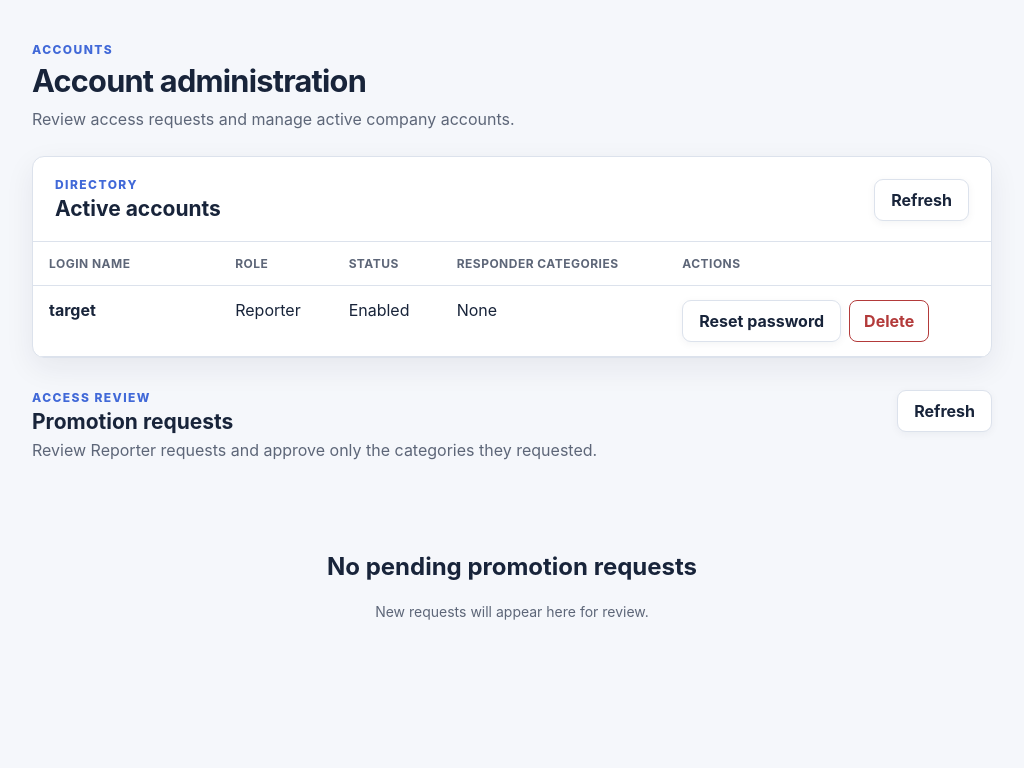
Test: Administrator account directory › shows a reset failure without revealing any secret
Click the button with aria-label "Reset password for target": x=762, y=321 [682,300,841,342]
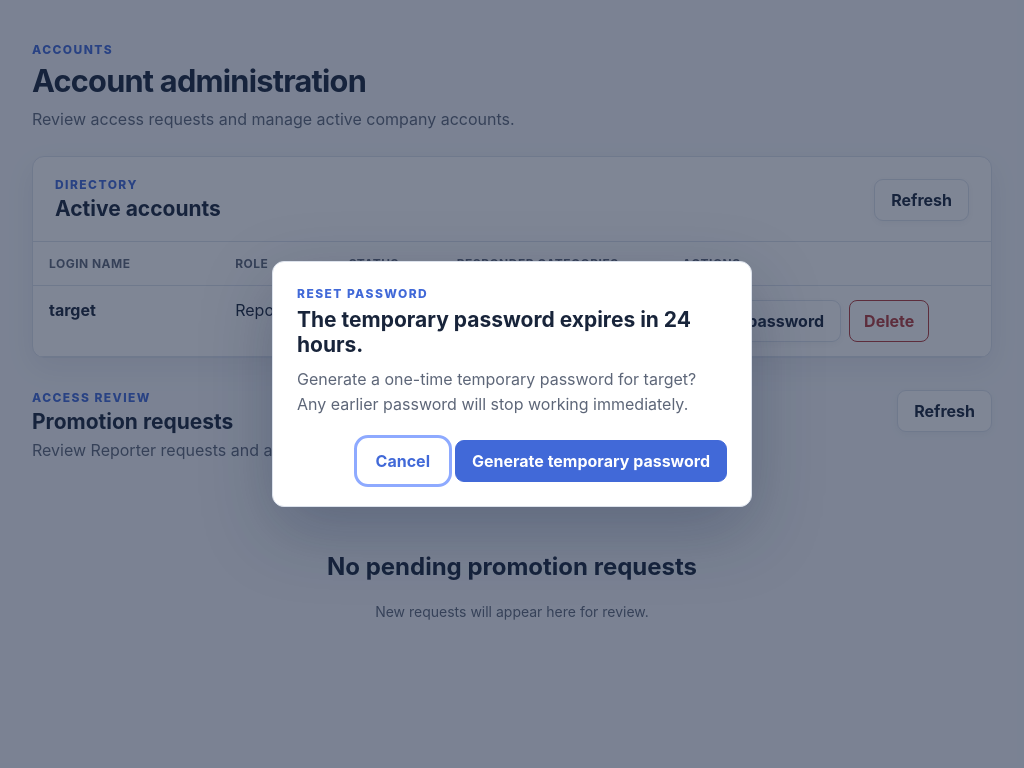
Click the button "Generate temporary password": x=591, y=461 [455,440,727,482]
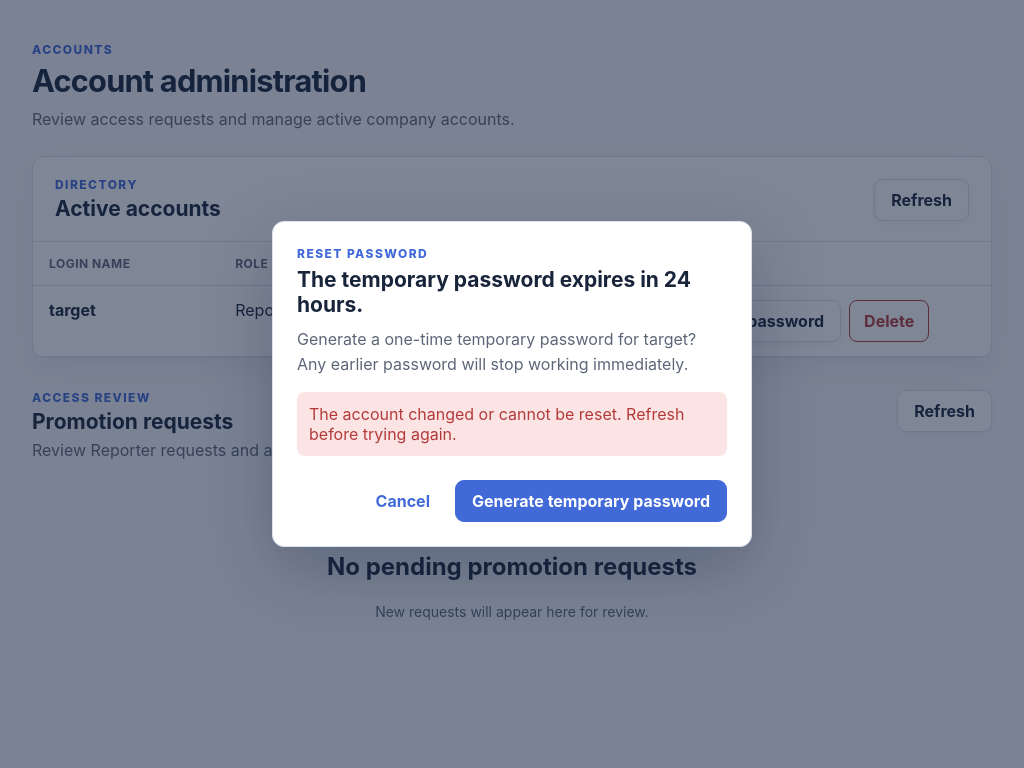
expect the message shows "account changed or cannot be reset": met, box [309,404,684,444]
